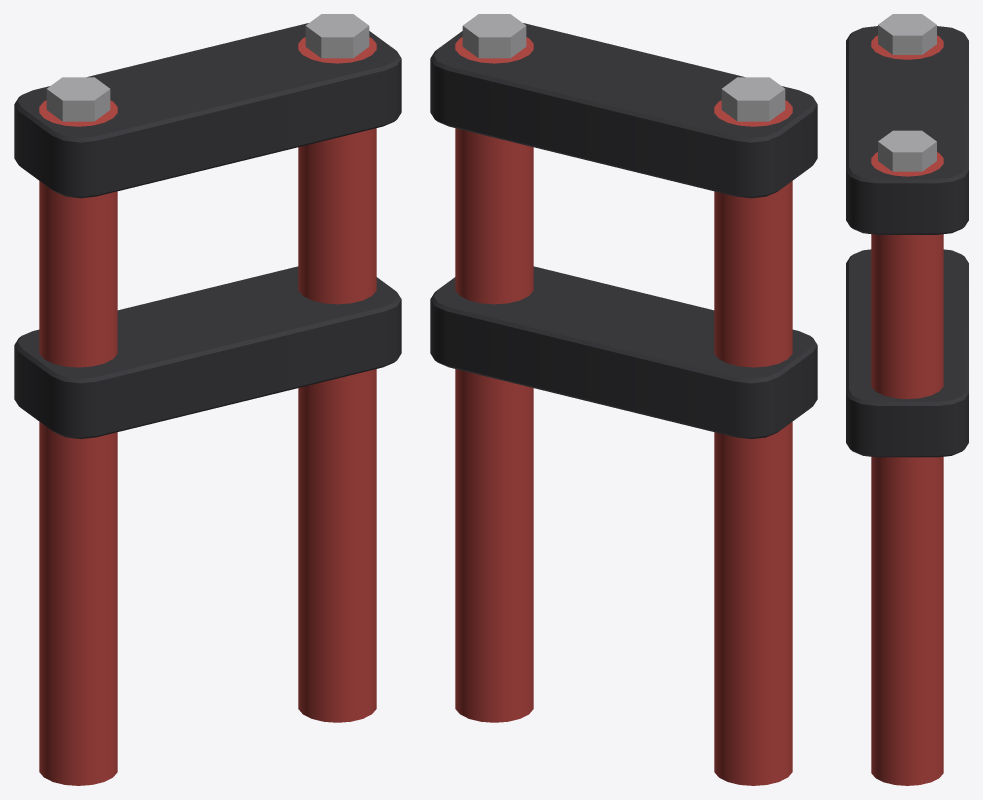
The model's file is classic_conventional_upper.glb.
3 renders of one model, left to right at view 1: azimuth 30°, elevation 25°; view 2: azimuth 150°, elevation 25°; view 3: azimuth 270°, elevation 25°, orthographic. The views are drawn at different scales.
Parts seen in each view (by area): view 1: lod0; view 2: lod0; view 3: lod0.
Boxes of the visible parts, left/top/right/bottom form: lod0: left=14, top=14, right=401, bottom=785; lod0: left=430, top=14, right=817, bottom=785; lod0: left=846, top=14, right=968, bottom=785.
Size of what is drawn, in the model's own units: 0.24 by 0.452 by 0.08.
